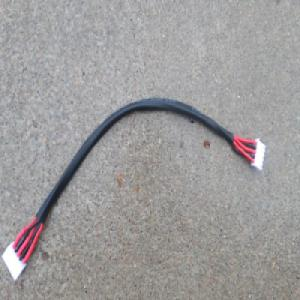Wire: (6, 95, 267, 281)
